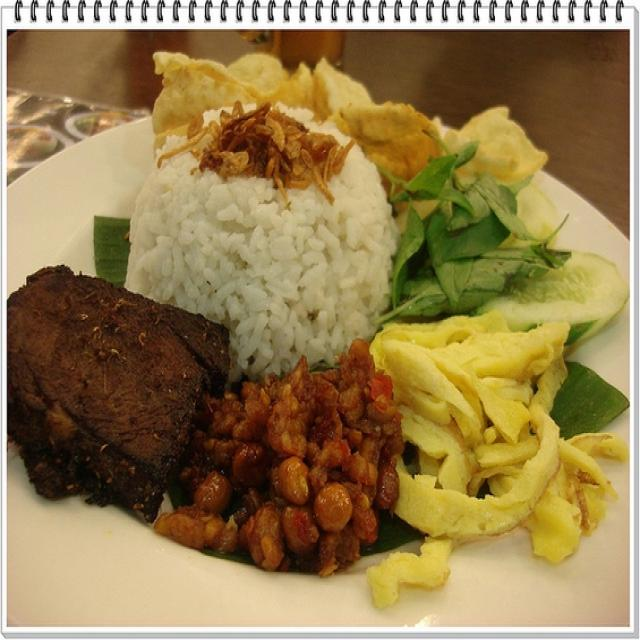米饭主食: (8, 55, 631, 621)
